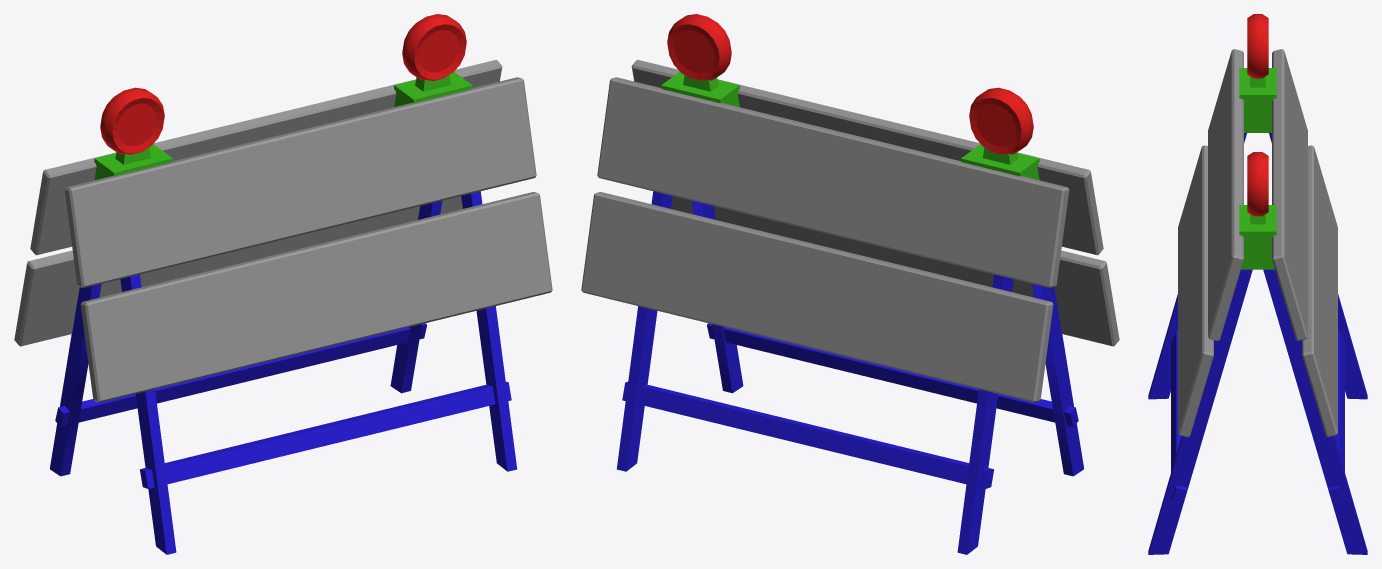
Rendered from Wegblokkade1_Export.FBX.
The picture shows the model from 3 angles, left to right: view 1: azimuth 30°, elevation 25°; view 2: azimuth 150°, elevation 25°; view 3: azimuth 270°, elevation 25°; orthographic projection. The views are drawn at different scales.
Visible parts, largest first — view 1: RoadworkSign1; view 2: RoadworkSign1; view 3: RoadworkSign1.
Part boxes in pixels (box(x1,y1,x2,y2)): RoadworkSign1: box(14, 14, 552, 554); RoadworkSign1: box(581, 14, 1119, 554); RoadworkSign1: box(1148, 14, 1367, 554).
Bounding box in the file's own units: 118 × 103 × 52.42.
